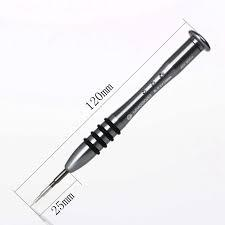screwdriver: (26, 27, 211, 207)
